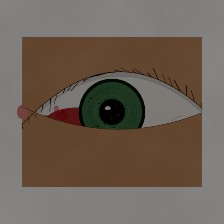hemorrhage_spot: (32, 87, 122, 158)
